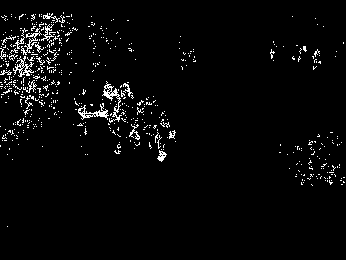person: (137, 98, 175, 162), (116, 81, 139, 144), (100, 84, 119, 151)
